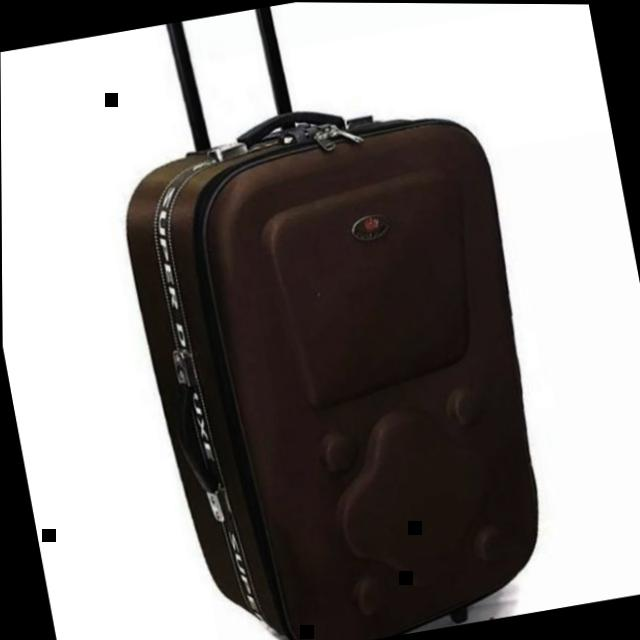luggage: (97, 72, 575, 640)
